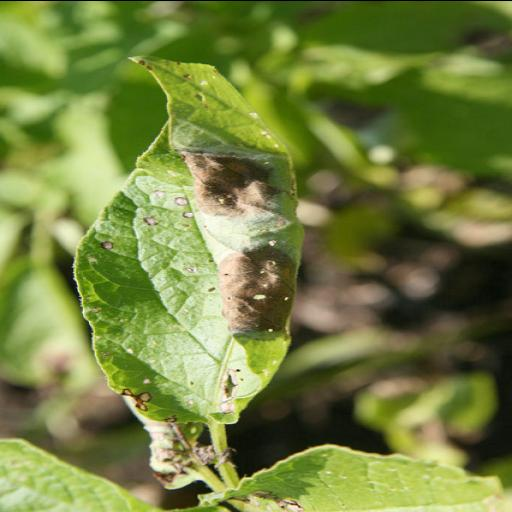disease_tomato: (68, 46, 314, 428)
